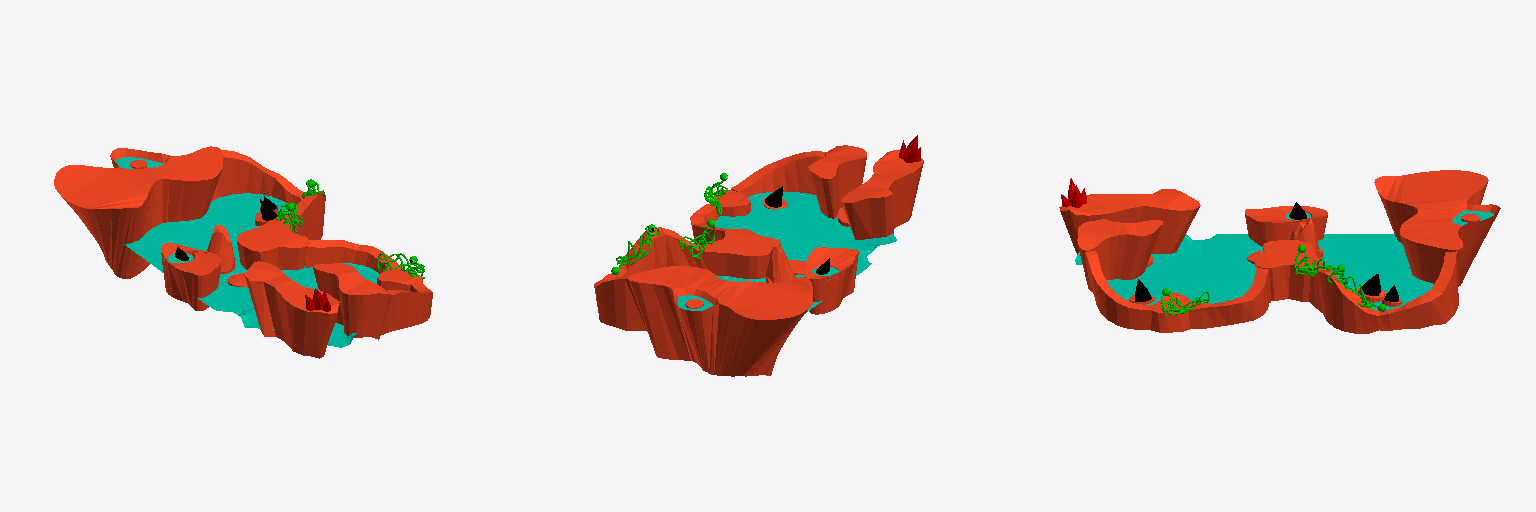
The model's file is FireLevel2.obj.
3 renders of one model, left to right at view 1: azimuth 30°, elevation 25°; view 2: azimuth 150°, elevation 25°; view 3: azimuth 270°, elevation 25°, orthographic.
Parts seen in each view (by area): view 1: ExitArea_Material.001, Plane_Material.005, Entrance_Material.001, FirstPuzzleGround_Material.001, SecondPuzzleGround2_Material.001, SecondPuzzleGround1_Material.001, Stairway4_Material.001, Stairway2_Material.001, Stairway1_Material.001, Stairway3_Material.001, FloatPlat4_Material.001, FirstPuzzleGround2_Material.001; view 2: ExitArea_Material.001, Plane_Material.005, Entrance_Material.001, SecondPuzzleGround1_Material.001, FirstPuzzleGround_Material.001, SecondPuzzleGround2_Material.001, Stairway1_Material.001, Stairway3_Material.001, Stairway4_Material.001, Stairway2_Material.001, FloatPlat4_Material.001, FirstPuzzleGround2_Material.001; view 3: Plane_Material.005, ExitArea_Material.001, Entrance_Material.001, FirstPuzzleGround_Material.001, Stairway4_Material.001, Stairway3_Material.001, SecondPuzzleGround1_Material.001, Stairway2_Material.001, Stairway1_Material.001, SecondPuzzleGround2_Material.001, FirstPuzzleGround2_Material.001, FloatPlat4_Material.001.
Part boxes in pixels (x1,y1,x2,y2): ExitArea_Material.001: (54,146,222,278); Plane_Material.005: (124,193,379,347); Entrance_Material.001: (244,261,340,358); FirstPuzzleGround_Material.001: (313,263,391,339); SecondPuzzleGround2_Material.001: (161,243,221,310); SecondPuzzleGround1_Material.001: (237,220,308,269); Stairway4_Material.001: (211,150,303,204); Stairway2_Material.001: (305,240,400,273); Stairway1_Material.001: (380,283,432,335); Stairway3_Material.001: (281,190,325,239); FloatPlat4_Material.001: (207,225,234,273); FirstPuzzleGround2_Material.001: (377,270,422,290); ExitArea_Material.001: (628,266,812,376); Plane_Material.005: (715,192,896,313); Entrance_Material.001: (841,150,923,239); SecondPuzzleGround1_Material.001: (704,229,780,278); FirstPuzzleGround_Material.001: (808,145,866,218); SecondPuzzleGround2_Material.001: (805,247,858,314); Stairway1_Material.001: (731,151,825,197); Stairway3_Material.001: (617,227,708,278); Stairway4_Material.001: (594,273,646,330); Stairway2_Material.001: (690,204,729,244); FloatPlat4_Material.001: (766,247,795,282); FirstPuzzleGround2_Material.001: (713,190,750,216); Plane_Material.005: (1075,234,1433,309); ExitArea_Material.001: (1374,170,1500,286); Entrance_Material.001: (1059,189,1200,254); FirstPuzzleGround_Material.001: (1077,219,1162,291); Stairway4_Material.001: (1378,251,1458,330); Stairway3_Material.001: (1309,268,1379,333); SecondPuzzleGround1_Material.001: (1255,240,1322,301); Stairway2_Material.001: (1189,266,1270,328); Stairway1_Material.001: (1085,250,1154,329); SecondPuzzleGround2_Material.001: (1245,206,1327,246); FirstPuzzleGround2_Material.001: (1151,293,1191,332); FloatPlat4_Material.001: (1290,219,1322,258).
Size of the model in its own units: 42.61 by 19.82 by 70.99.